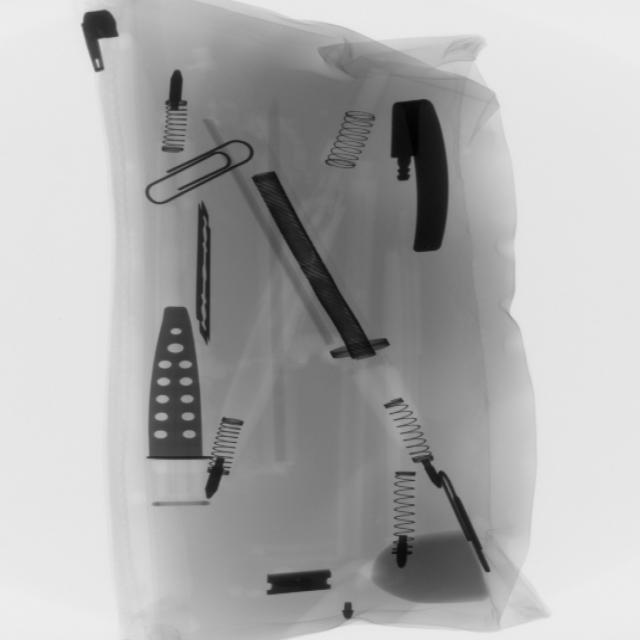SHURIKEN: (184, 201, 226, 352)
